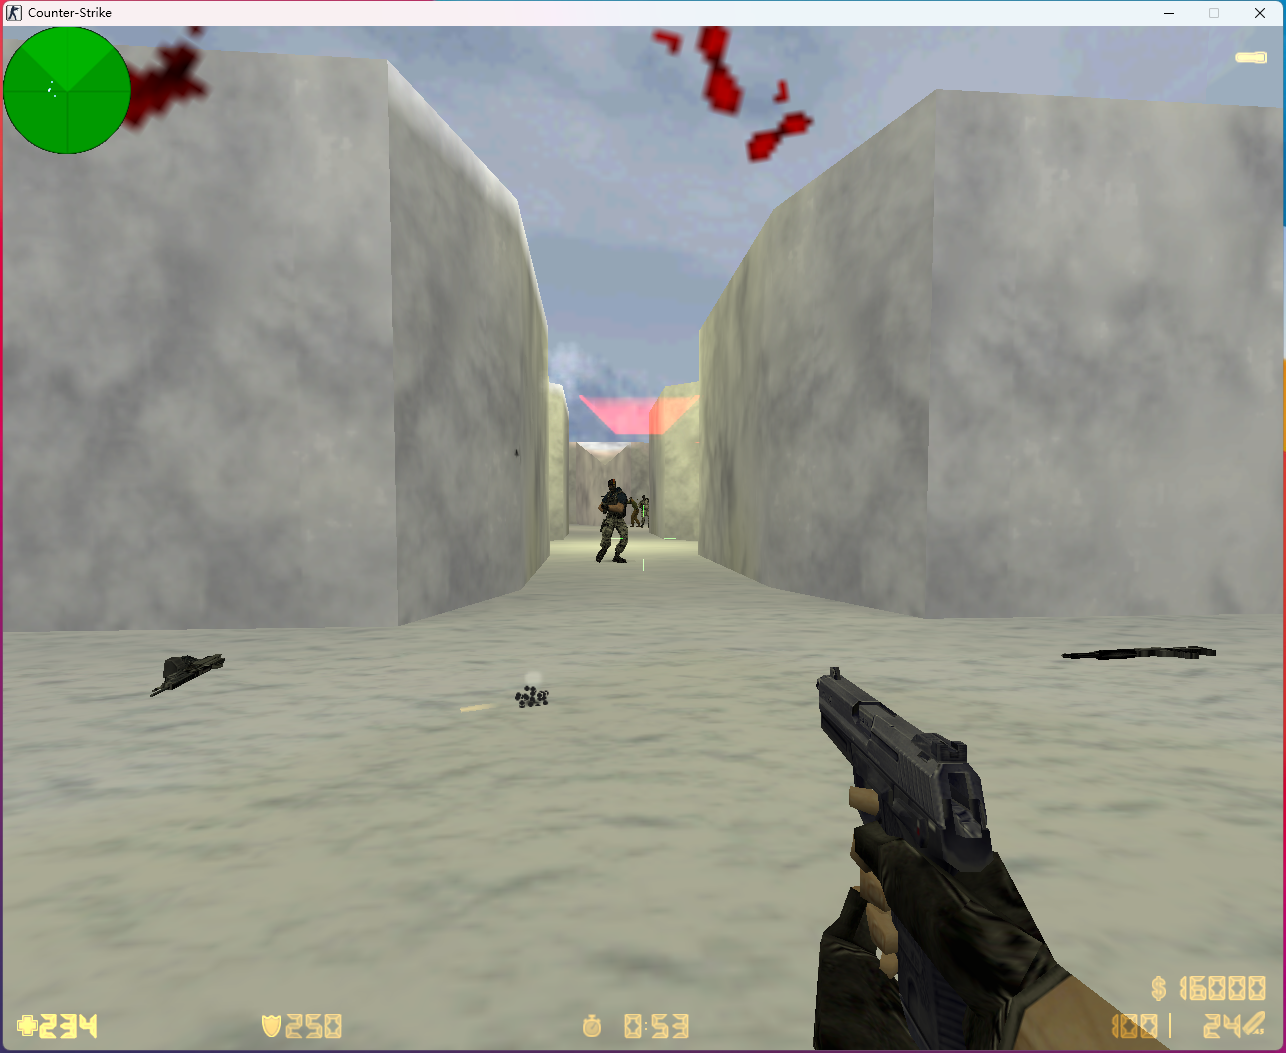T: (595, 480, 627, 565), (627, 497, 640, 526), (639, 494, 649, 526)
weapon: (147, 651, 231, 705), (1054, 642, 1219, 663)
